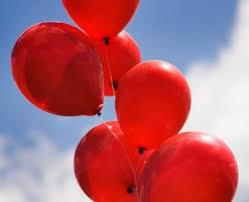red: (11, 21, 103, 116), (141, 132, 239, 202), (74, 121, 157, 201), (115, 59, 190, 146), (73, 31, 142, 97), (61, 0, 139, 41)
